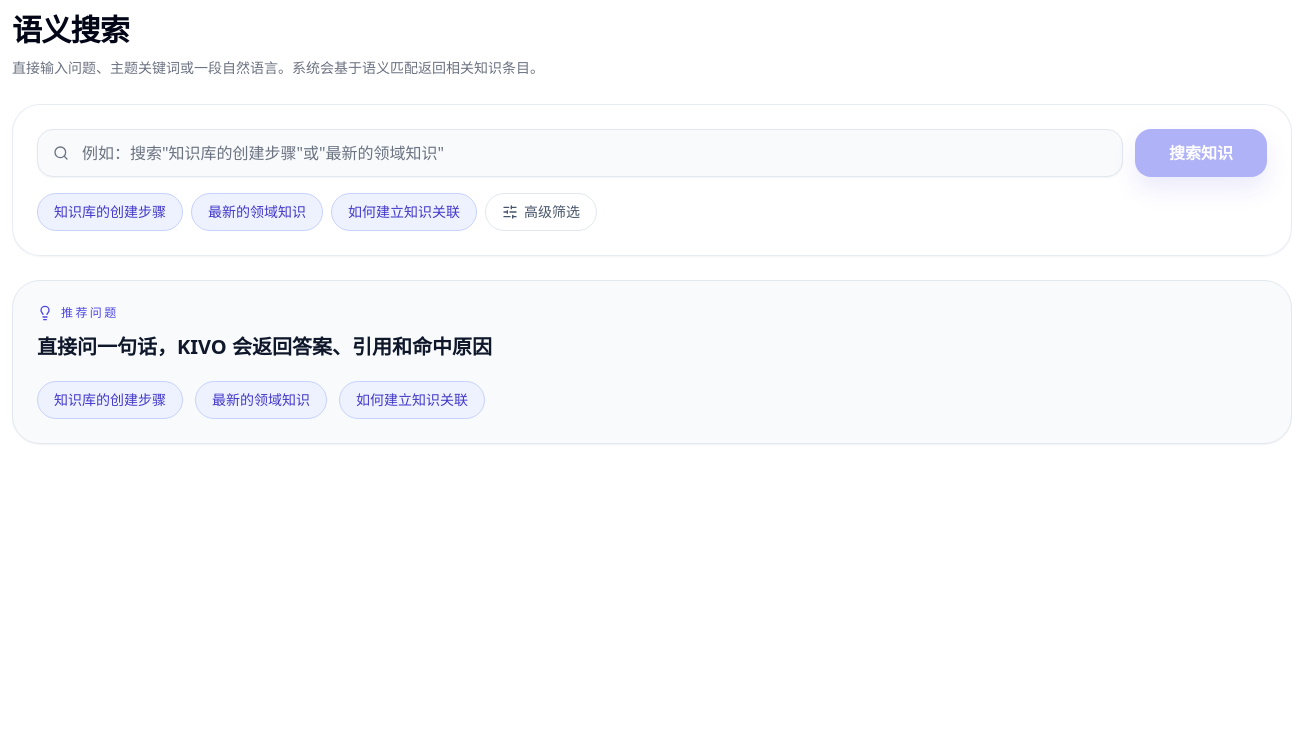
Test case: SearchPage › renders empty state after submitting search with no hits
This screenshot has width=1292, height=732.
Type "不存在的规则" into the field named "输入搜索问题" at x=580, y=153, box [37, 129, 1123, 177]
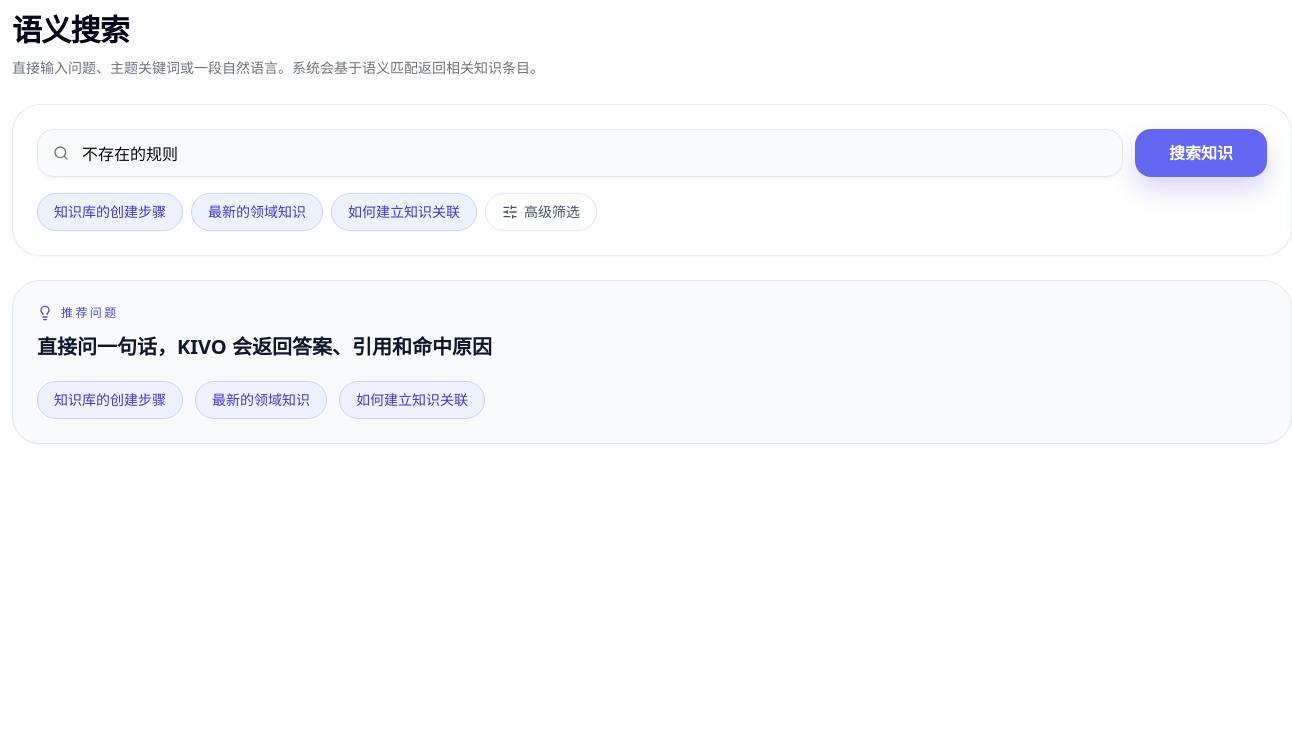
Submit the form named "输入搜索问题", box [37, 129, 1267, 231]
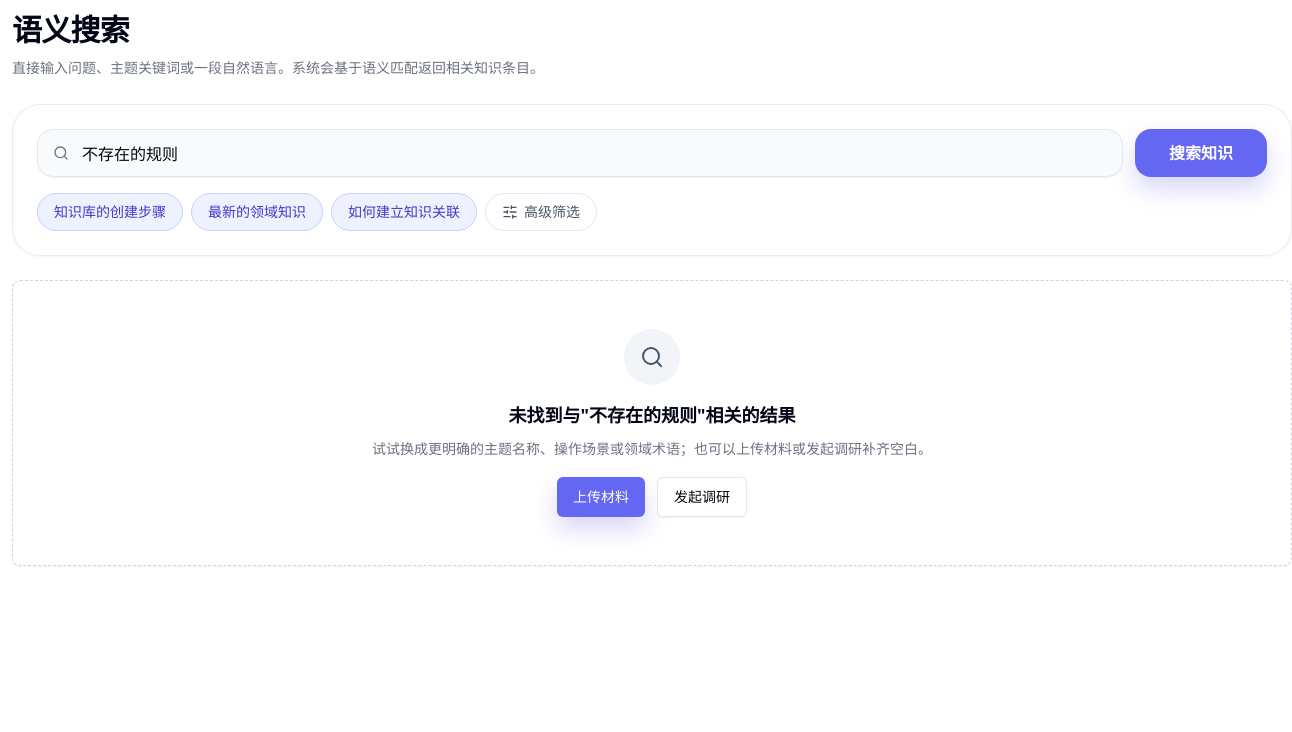
Result: the heading "未找到与\"不存在的规则\"相关的结果" is shown at [508, 403, 796, 427]
